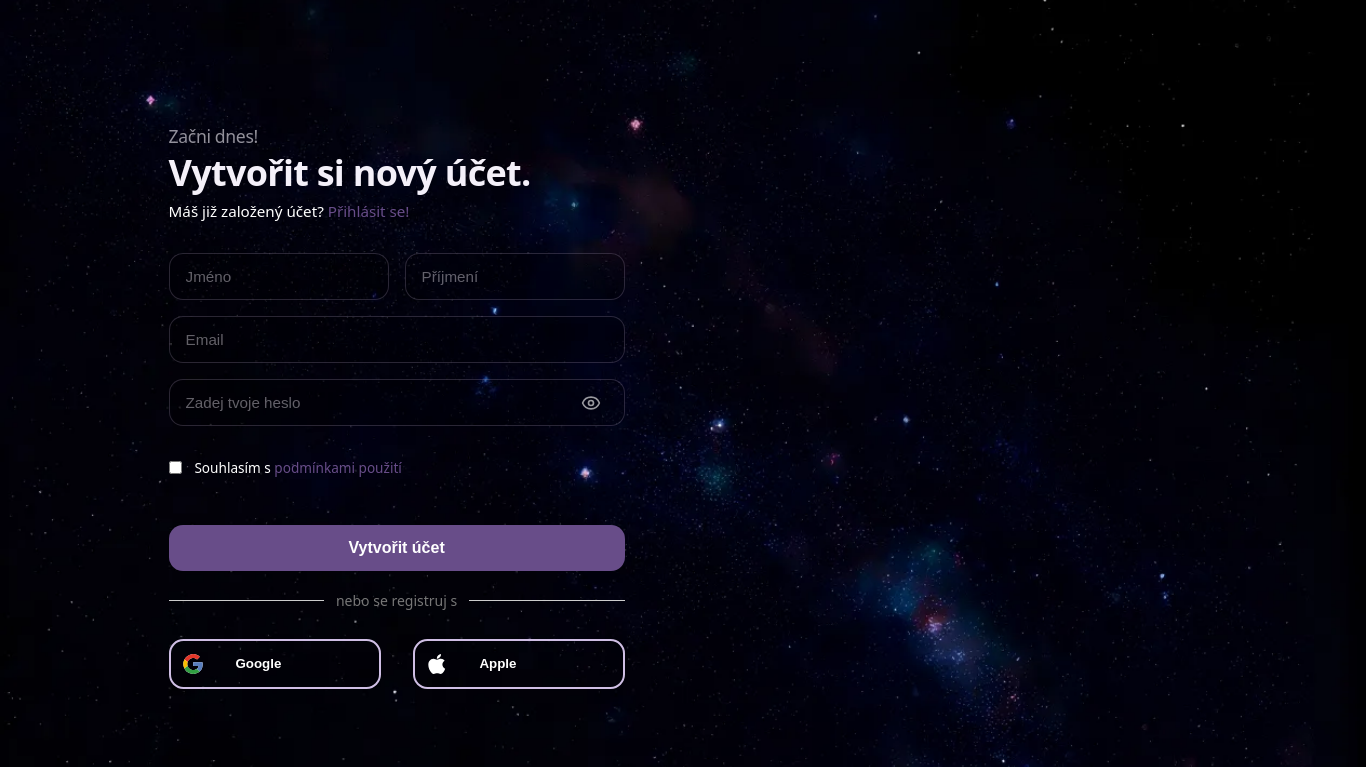
Test: RegisterForm › shows error for name with numbers
Type "Jan123" into the field with placeholder "Jméno" at (279, 277), box [169,253,389,300]
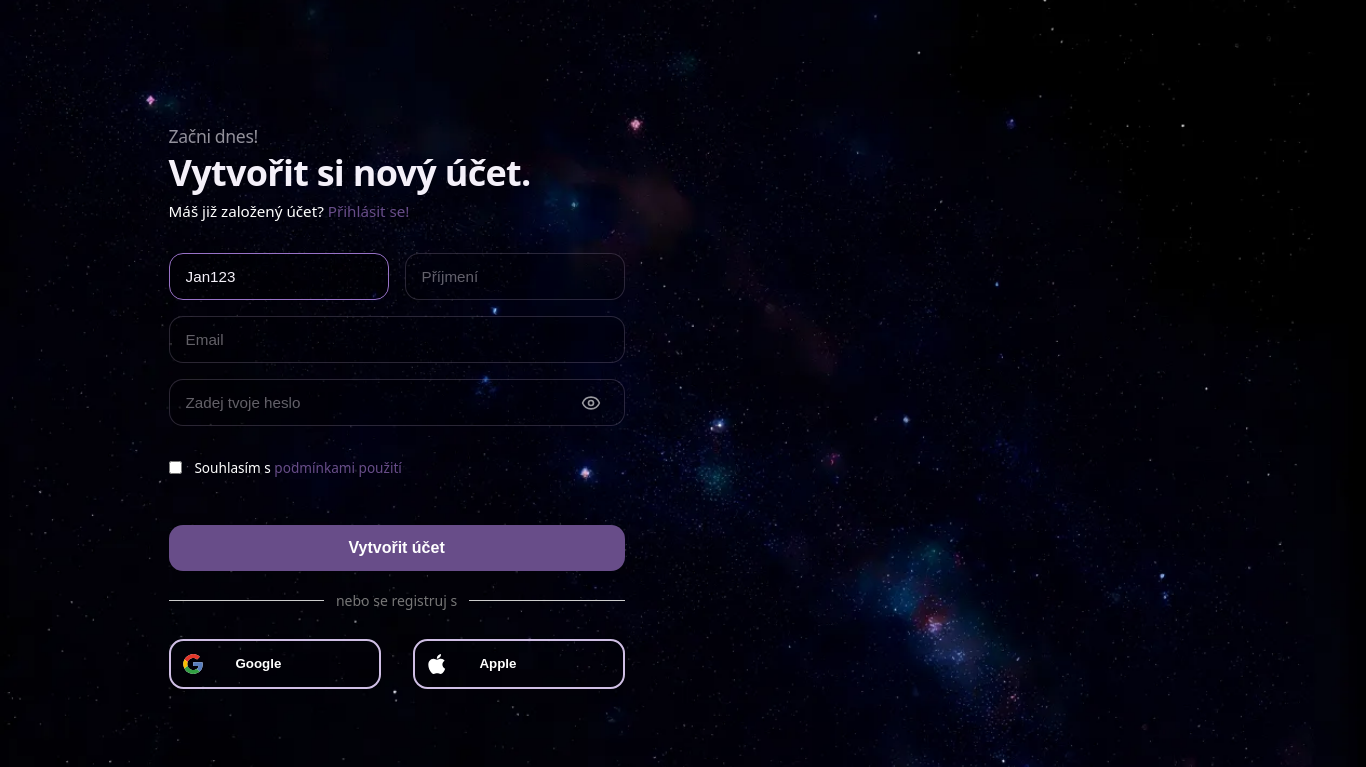
Type "Novák" into the field with placeholder "Příjmení" at (515, 277), box [405,253,625,300]
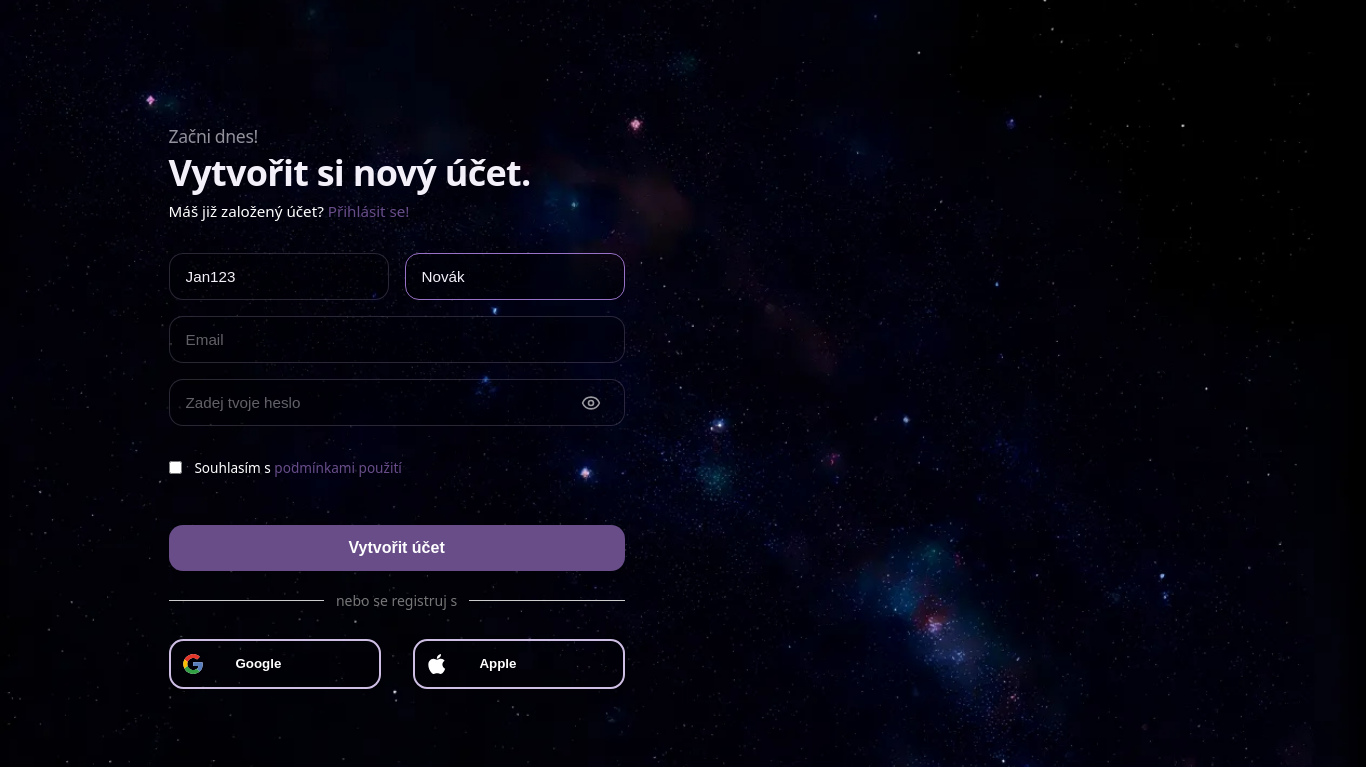
Type "test@test.com" into the field with placeholder "Email" at (397, 340), box [169,316,625,363]
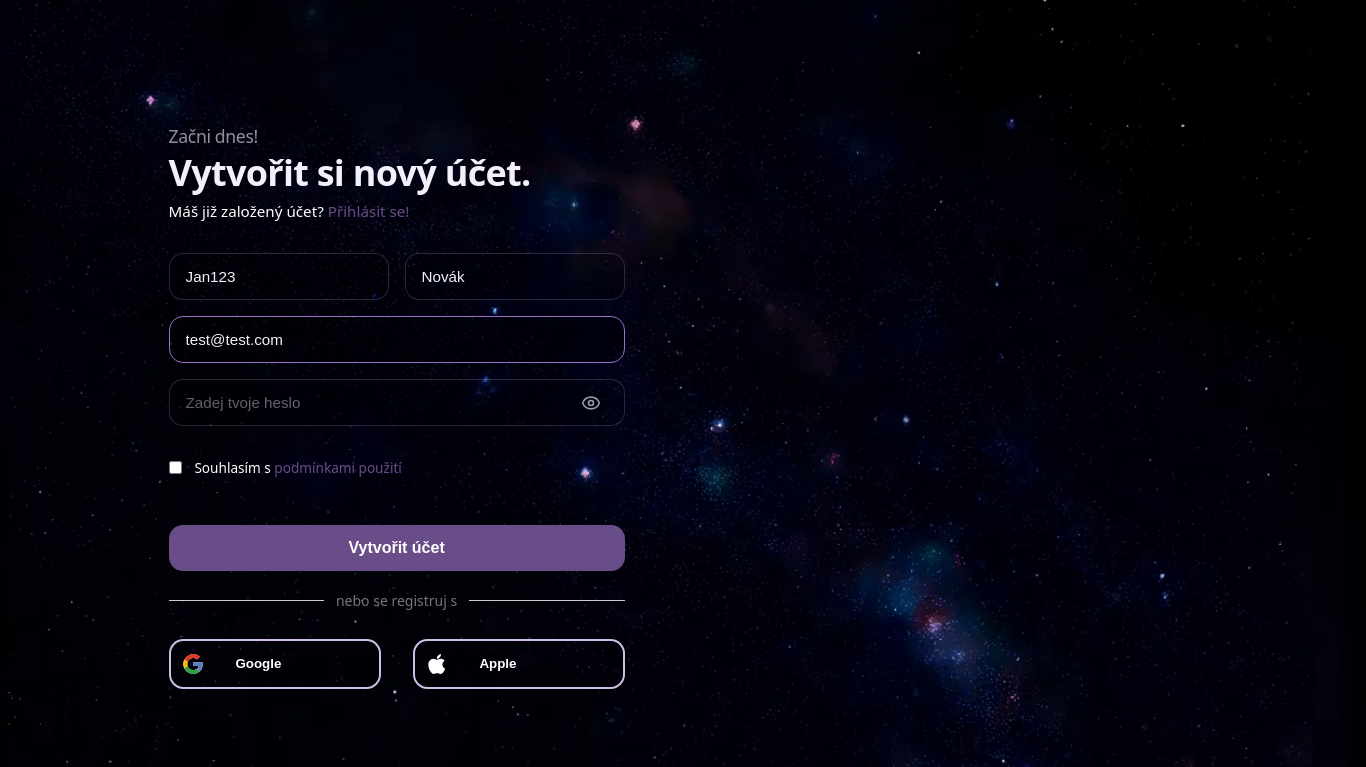
Type "Password1!" into the password field with placeholder "Zadej tvoje heslo" at (397, 403), box [169,379,625,426]
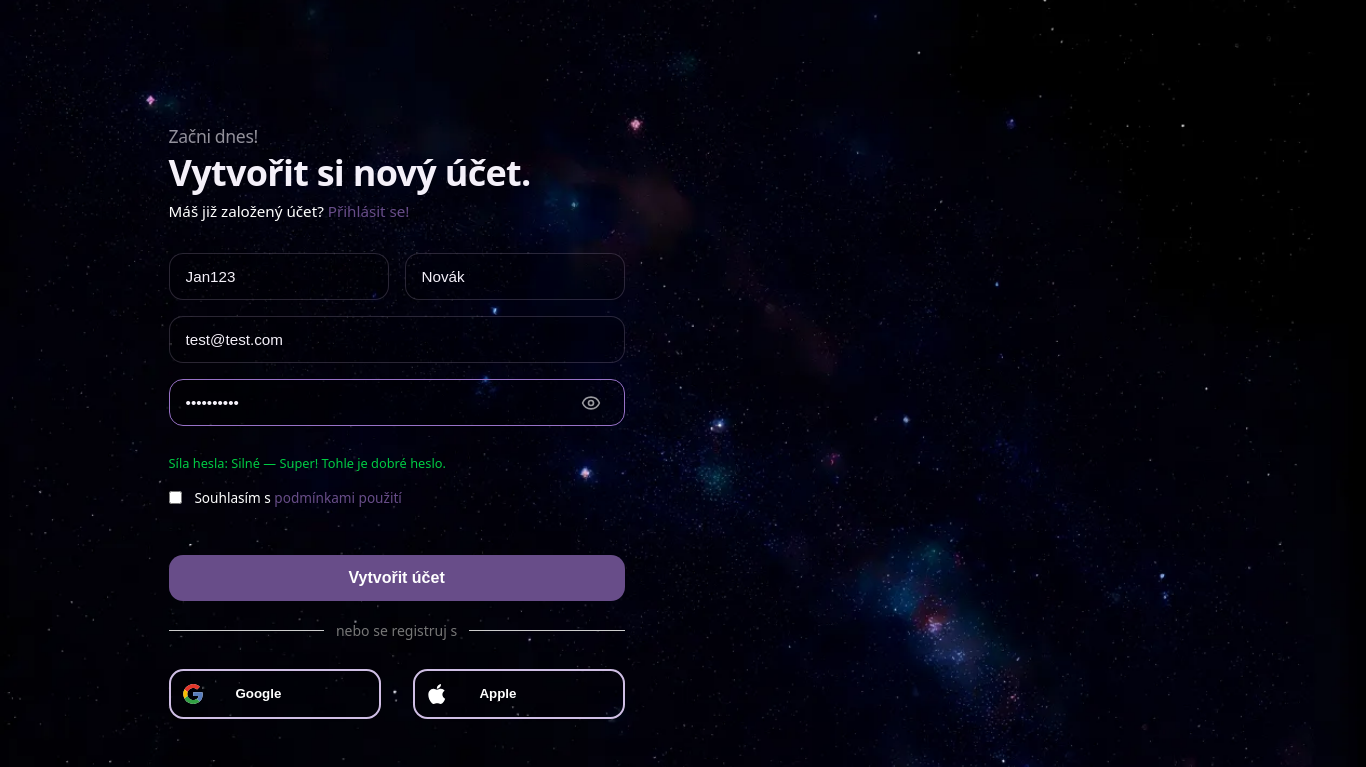
Click the checkbox labelled "Souhlasím s podmínkami použití" at (175, 498), box [169,491,182,504]
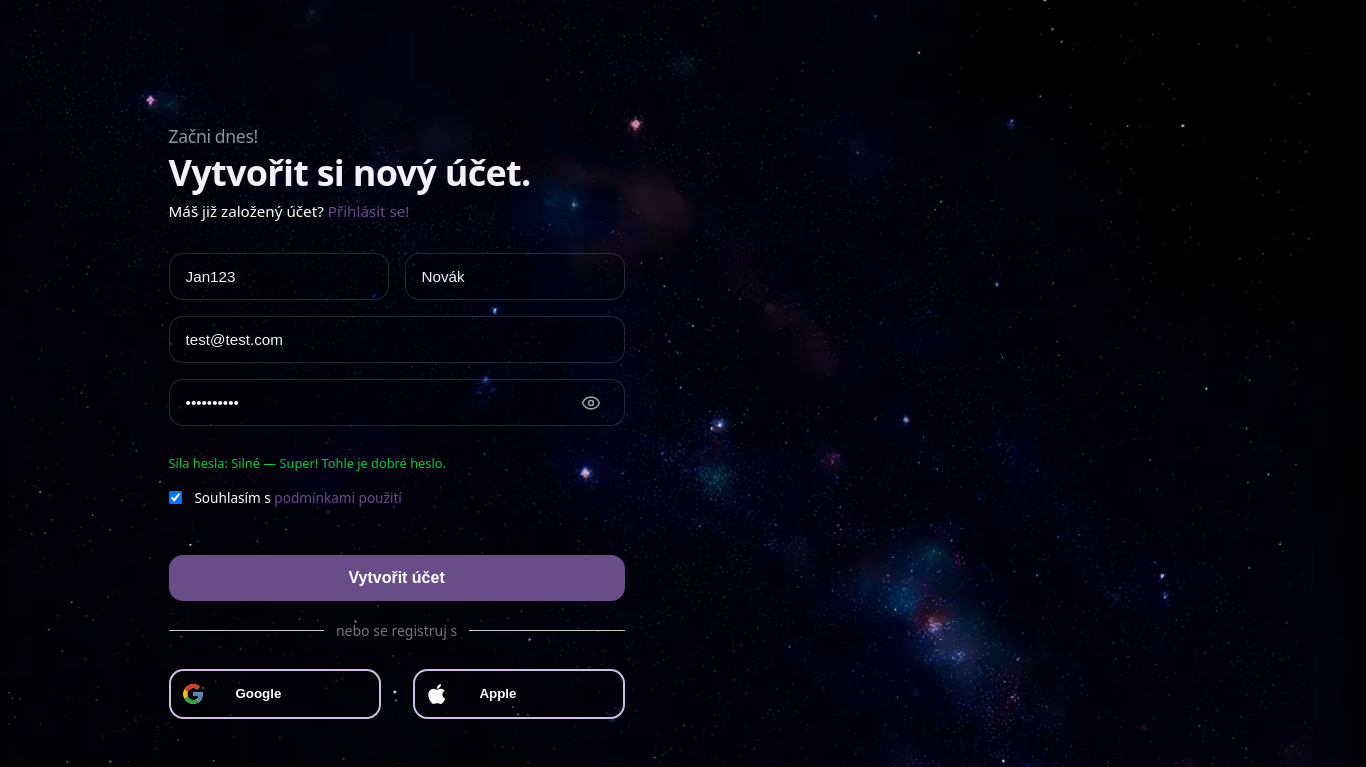
Click the button "Vytvořit účet" at (397, 578), box [169,555,625,601]
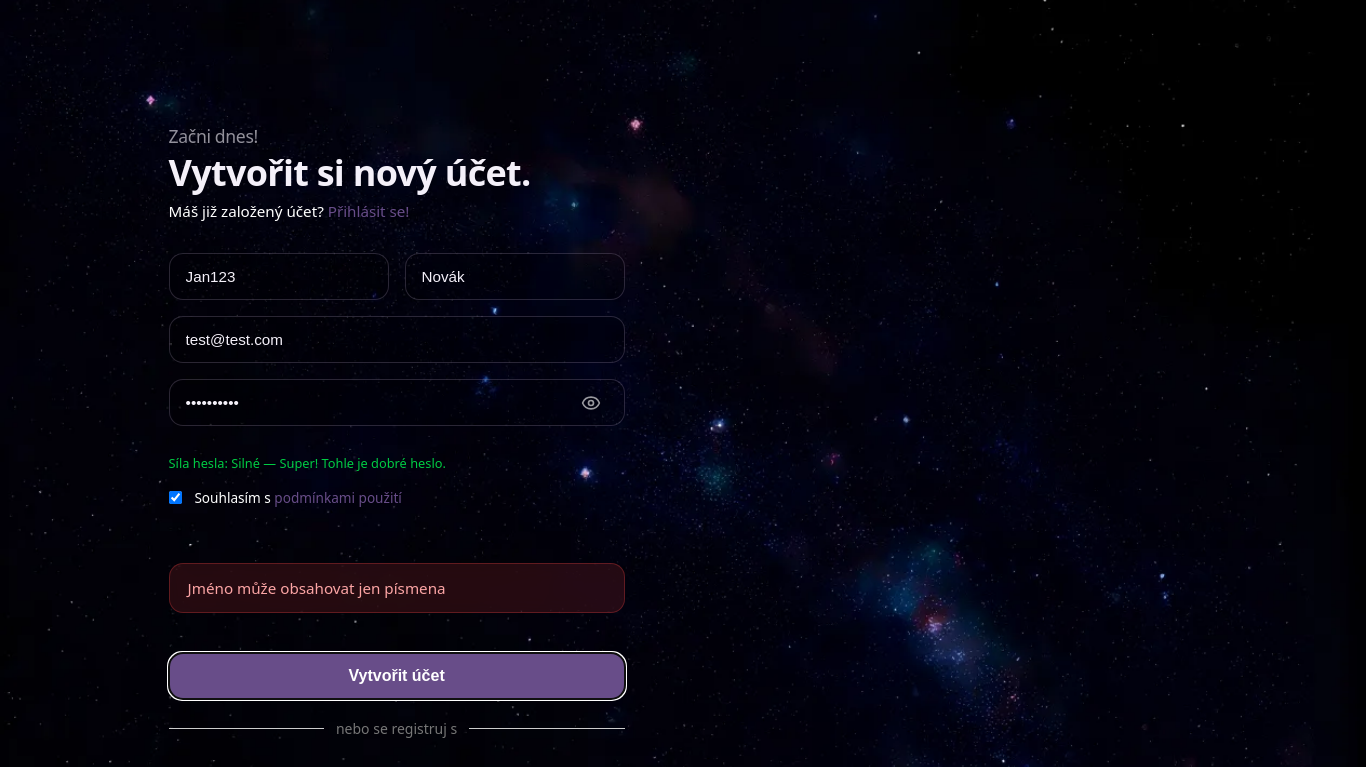
Now the message reads "Jméno může obsahovat jen písmena", box [188,578,446,598]
